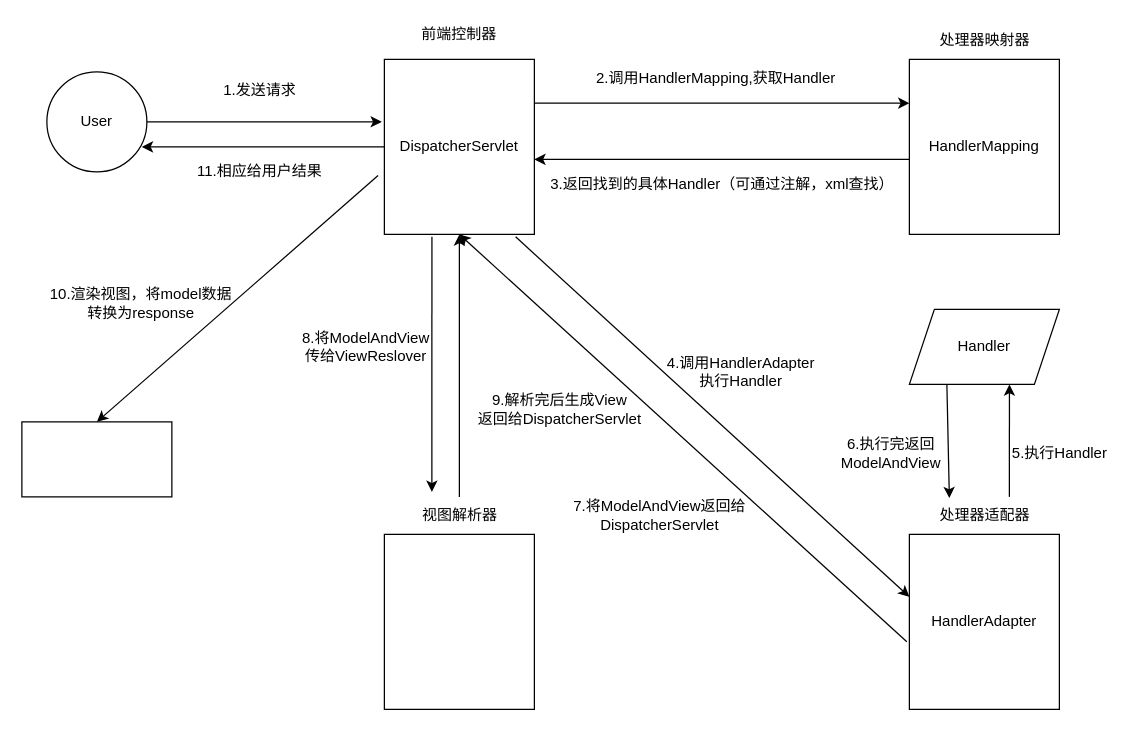
Image size: 1144x731. Some labels were removed from this diagram. The centre of each missing label's shape, as x and y in pixels:
"View" belongs at (x=96, y=459).
"ViewReslover" belongs at (x=458, y=621).
